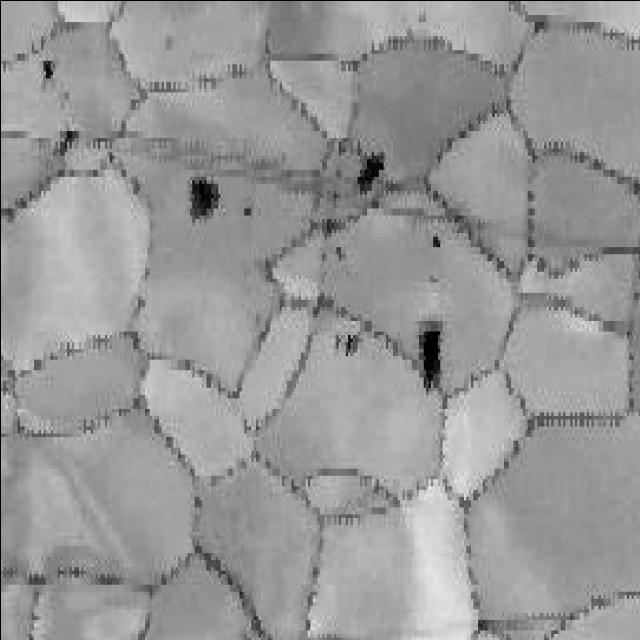good_void: (412, 315, 445, 398), (181, 172, 224, 226), (354, 153, 386, 197), (329, 329, 365, 361), (54, 127, 78, 162), (35, 55, 54, 87), (332, 242, 347, 264), (429, 233, 440, 251), (239, 204, 250, 219)
